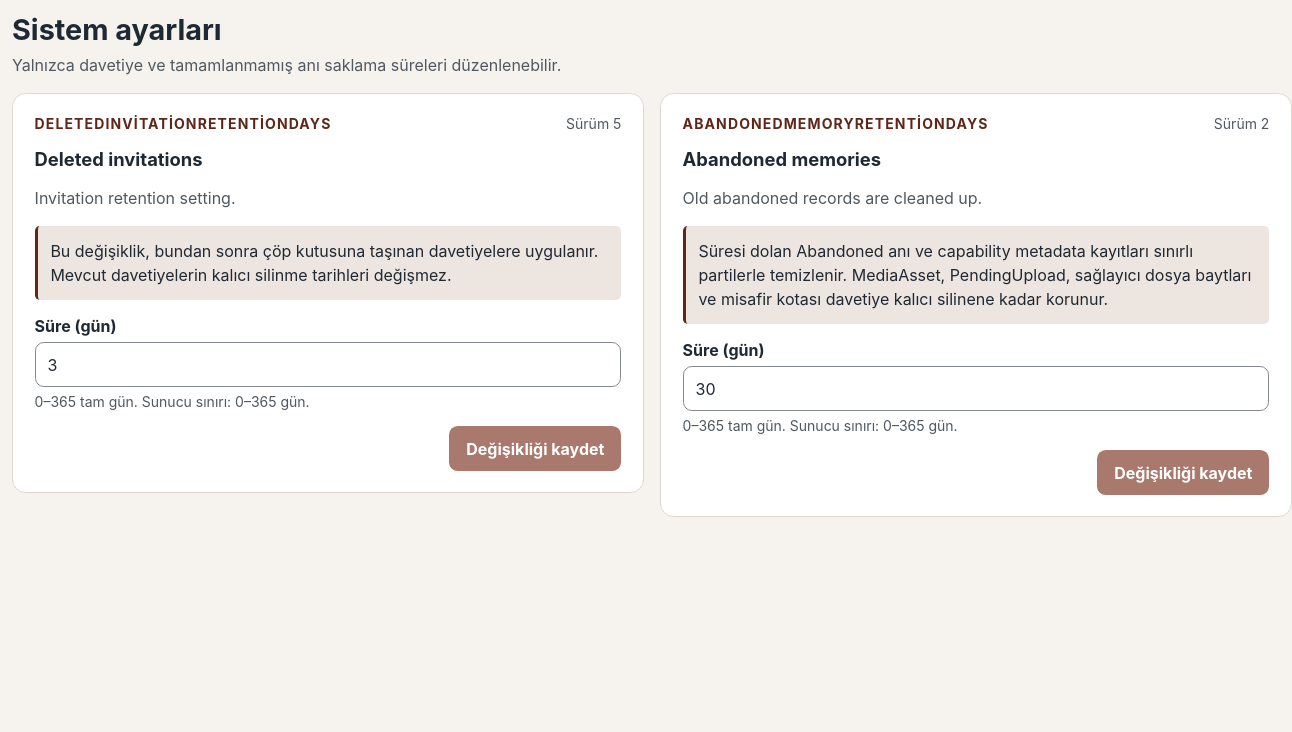
it: AdminSettingsPage › rejects values outside 0–365 and retains an unsaved draft after a stale revision response
This screenshot has width=1292, height=732.
Replace the text in the number field labelled "Süre (gün) 0–365 tam gün. Sunucu sınırı: 0–365 gün." below "Invitation retention setting." with "366" at (328,365), box [35,342,621,387]
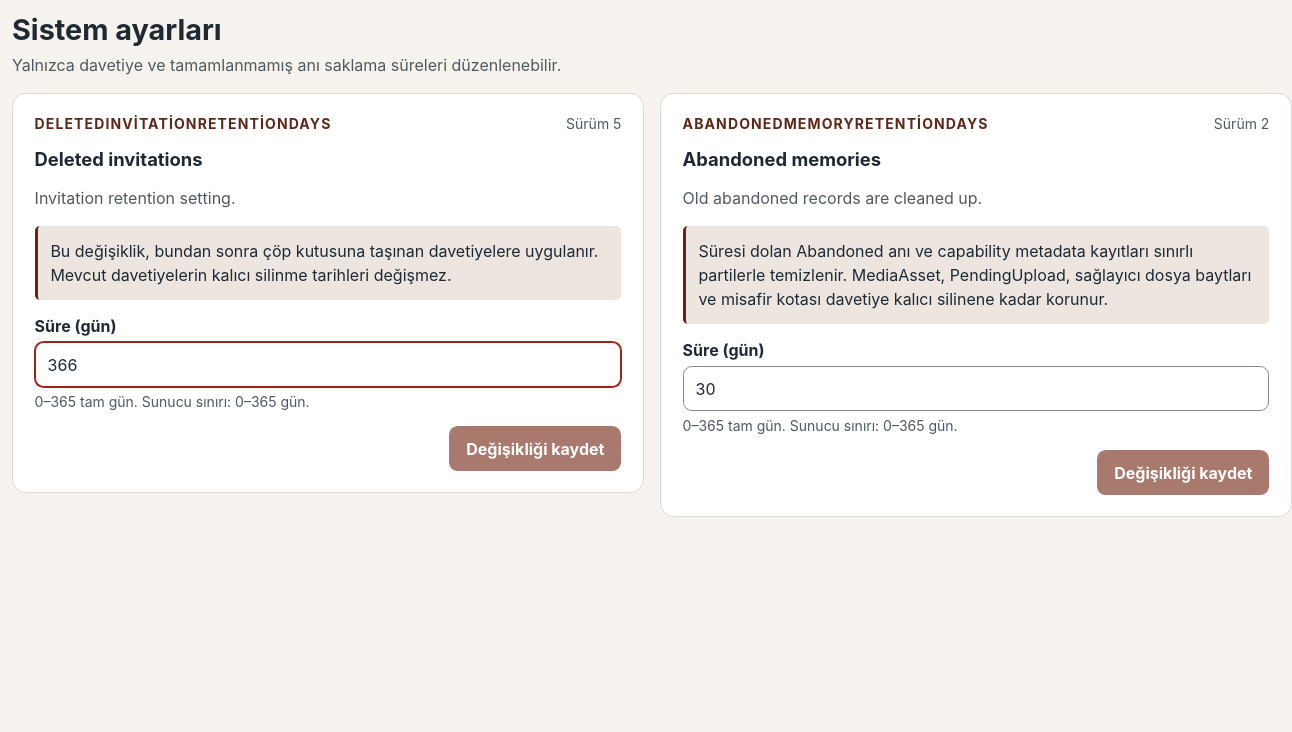
Expected: the submit button is disabled, [449,426,621,471]
Replace the text in the number field labelled "Süre (gün) 0–365 tam gün. Sunucu sınırı: 0–365 gün." below "Invitation retention setting." with "12" at (328,365), box [35,342,621,387]
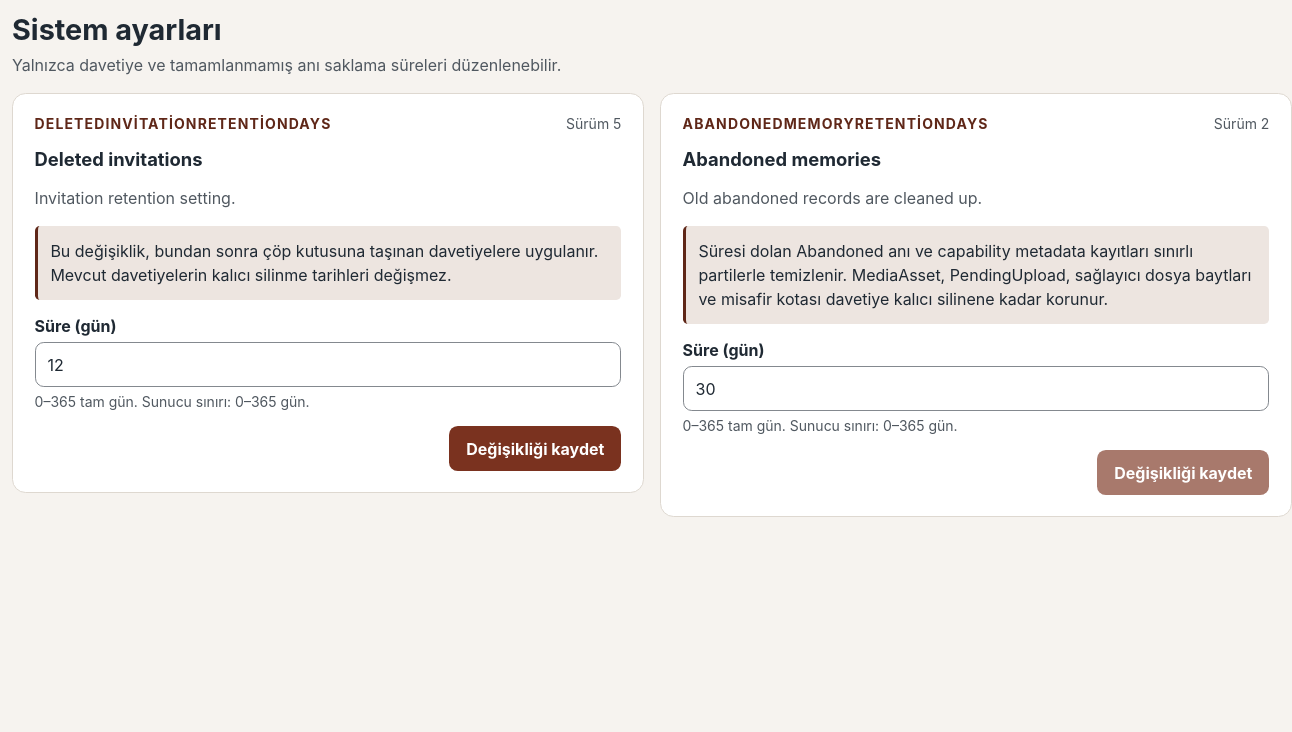
Submit the form with id "admin-setting-title-deletedInvitationRetentionDays", box [12,93,644,493]
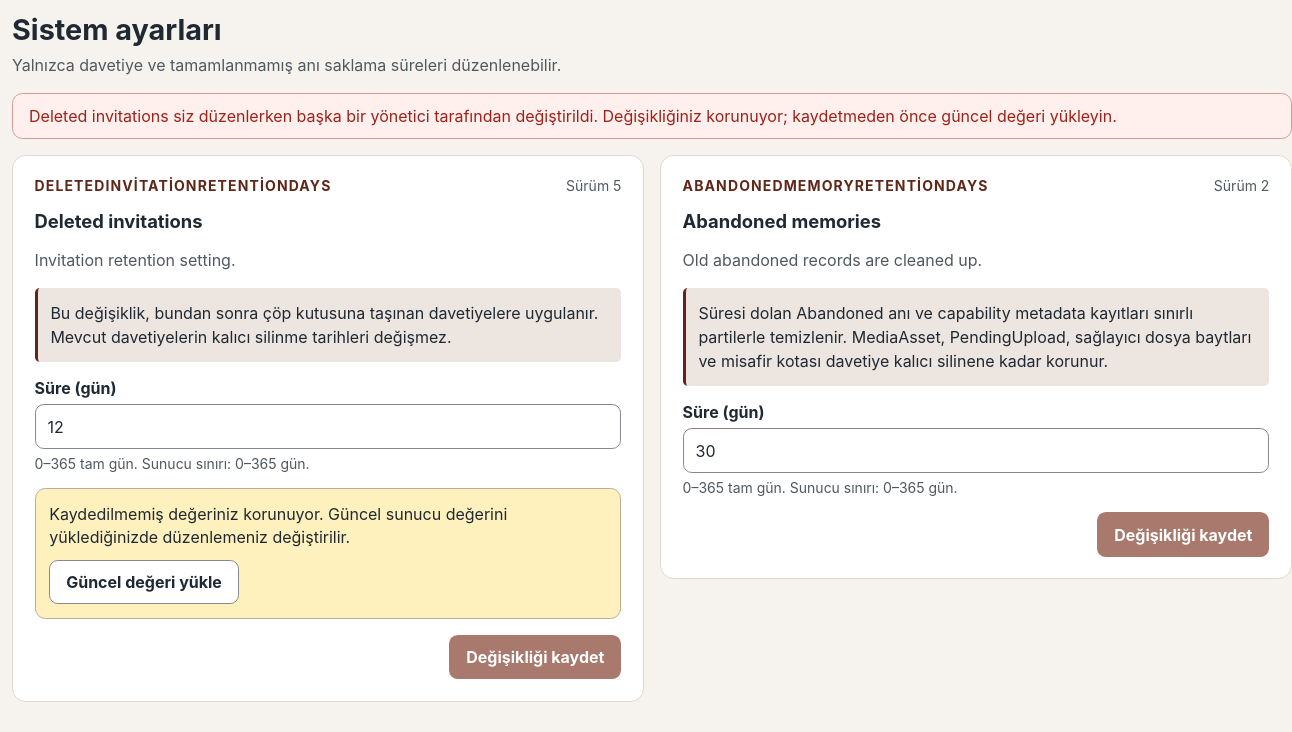
Now the message is shown, box [12,93,1291,139]
Now the button "Güncel değeri yükle" is shown, box [49,560,239,604]
